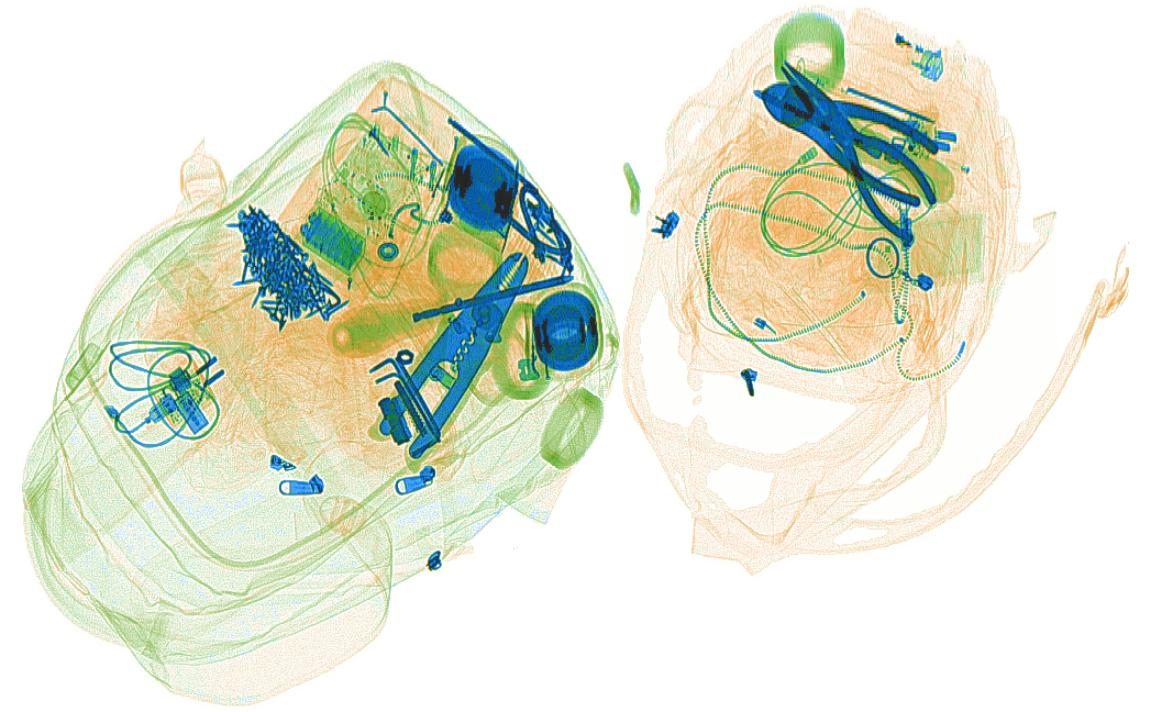battery: (296, 208, 369, 273)
lighter: (846, 7, 945, 82)
